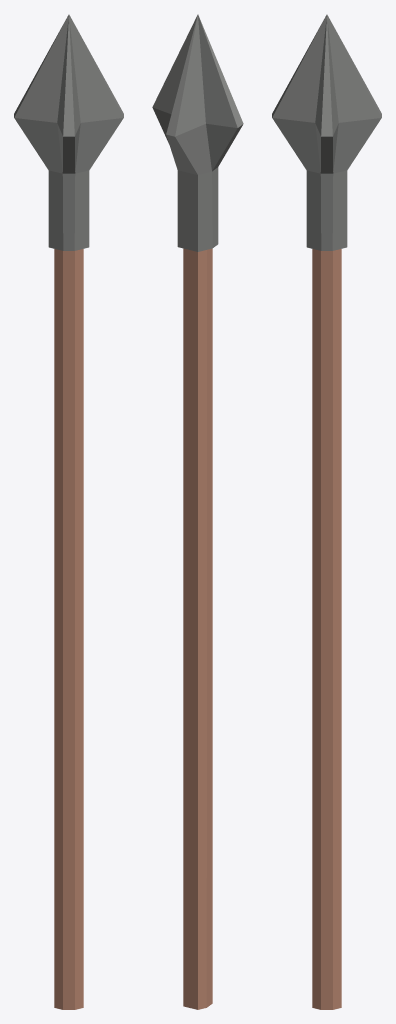
Rendered from Bolt.glb.
The picture shows the model from 3 angles, left to right: view 1: azimuth 90°, elevation 25°; view 2: azimuth 150°, elevation 25°; view 3: azimuth 270°, elevation 25°; orthographic projection.
Parts seen in each view (by area): view 1: Bolt; view 2: Bolt; view 3: Bolt.
Boxes of the visible parts, x1,y1,x2,y2 form: Bolt: [14, 14, 123, 1009]; Bolt: [152, 14, 243, 1009]; Bolt: [272, 14, 381, 1009].
Size of the model in its own units: 0.0165 by 0.1825 by 0.0183.
